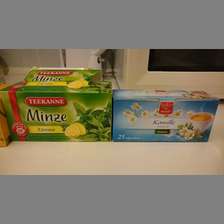tea: (1, 81, 113, 142), (112, 89, 219, 143)
